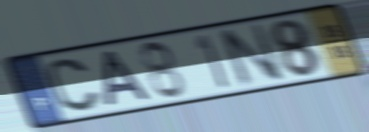1: (194, 32, 233, 92)
8: (270, 16, 323, 79), (139, 39, 186, 103)
A: (101, 48, 154, 110)
C: (44, 57, 105, 115)
N: (215, 20, 288, 91)
